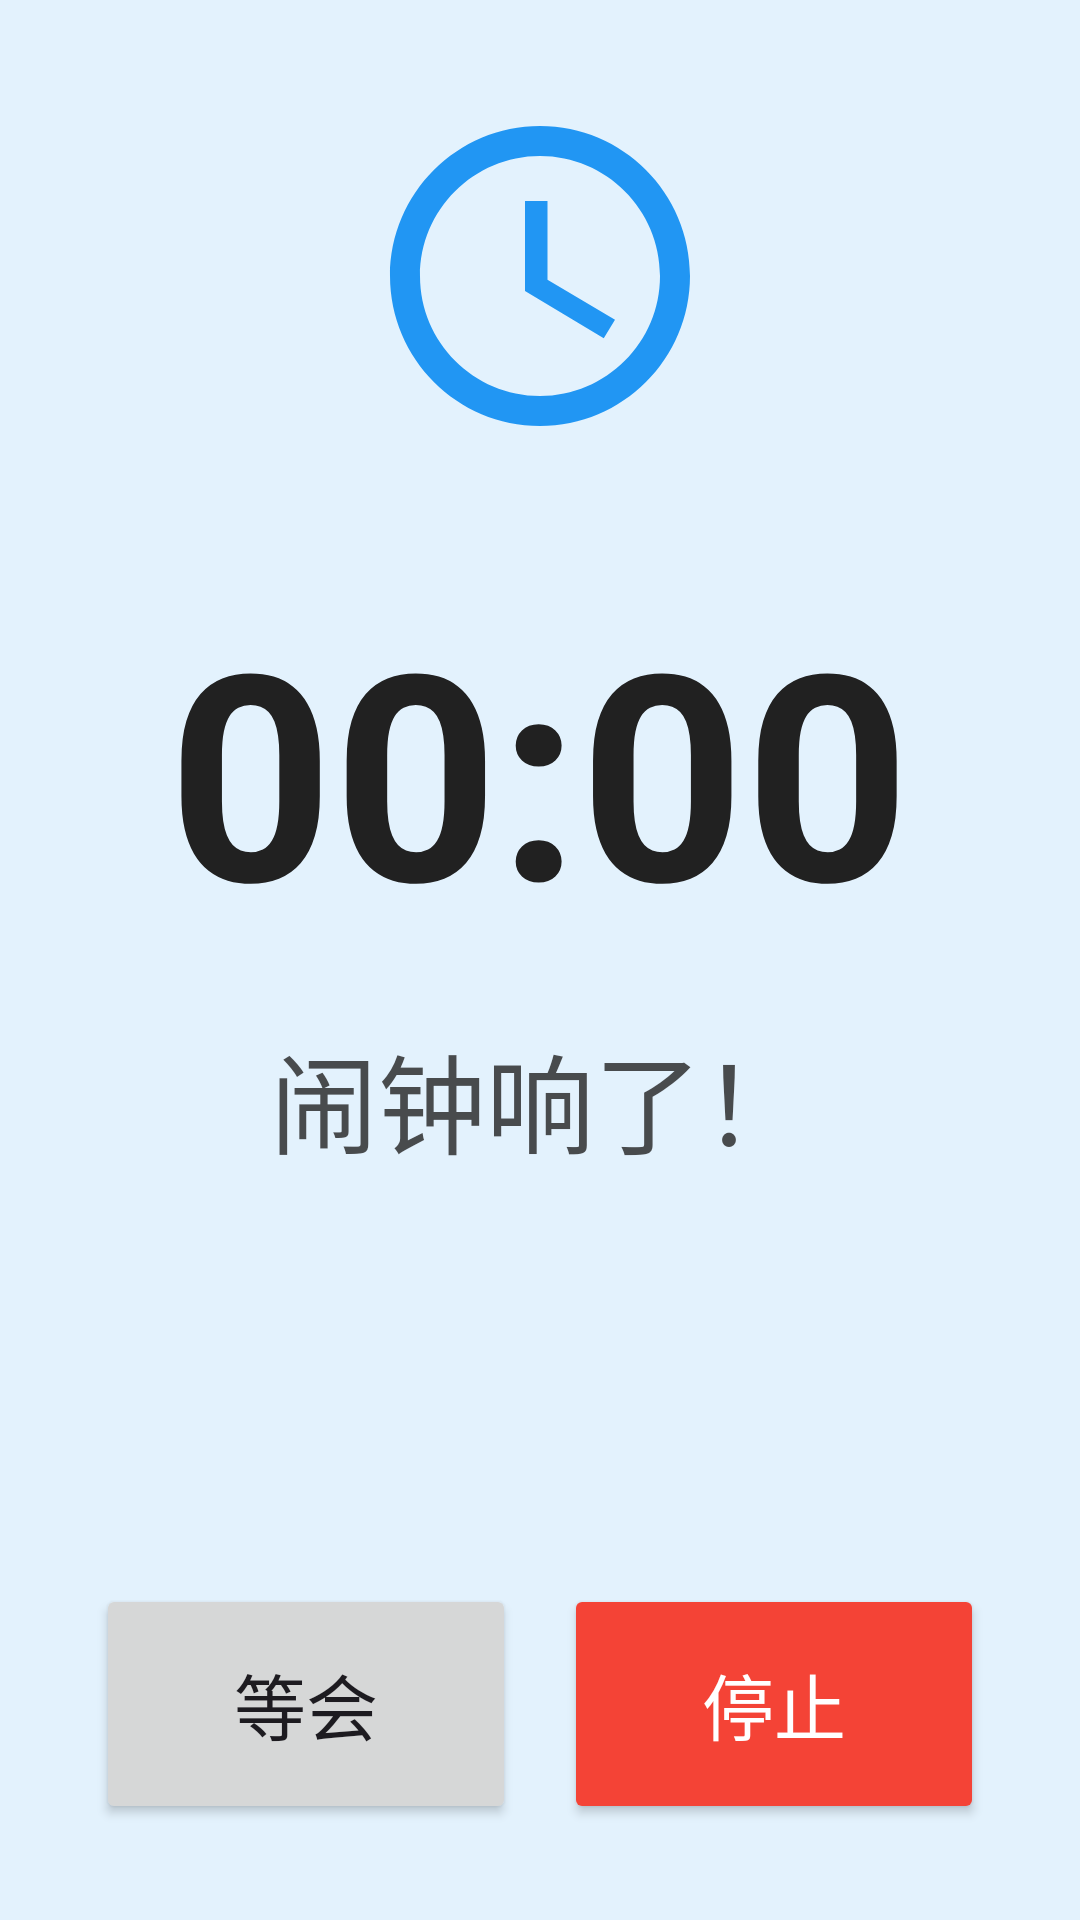

Screen size 1080*1920. Icon name, then its box in pixels as (x1, y1, x2, y2):
alarm on: (390, 126, 690, 426)
